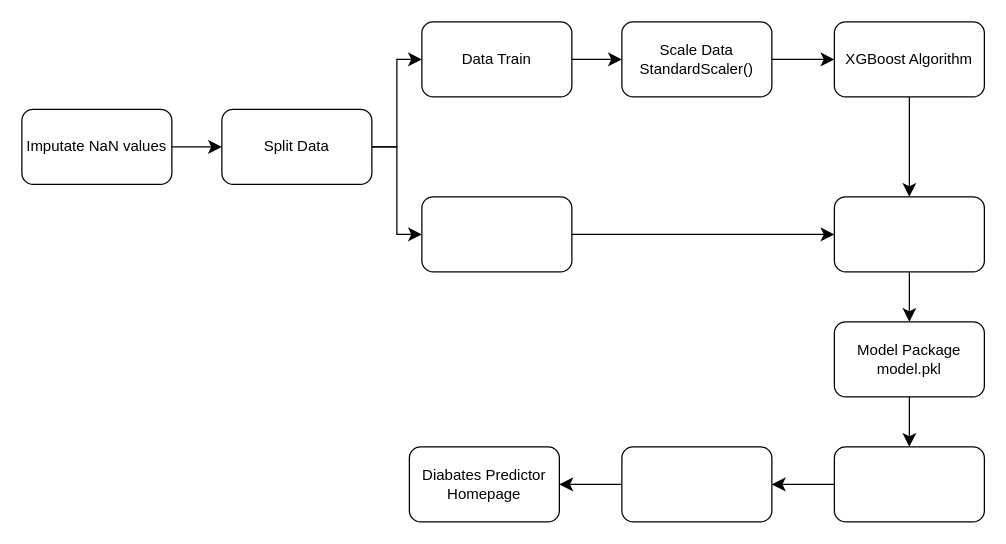
Image size: 1006x544. Some labels were removed from this diagram. The shapes that lost their labels are listed below. From the top down, each one's box as (x1, y1, x2, y2) in pixels, then its label:
(421, 196, 572, 272): Data Test
(833, 196, 984, 272): Evaluate Model Accuracy, Precision, Recall
(621, 446, 772, 522): Deploy Model Flask
(833, 446, 984, 522): Scaler Package scaler.pkl
